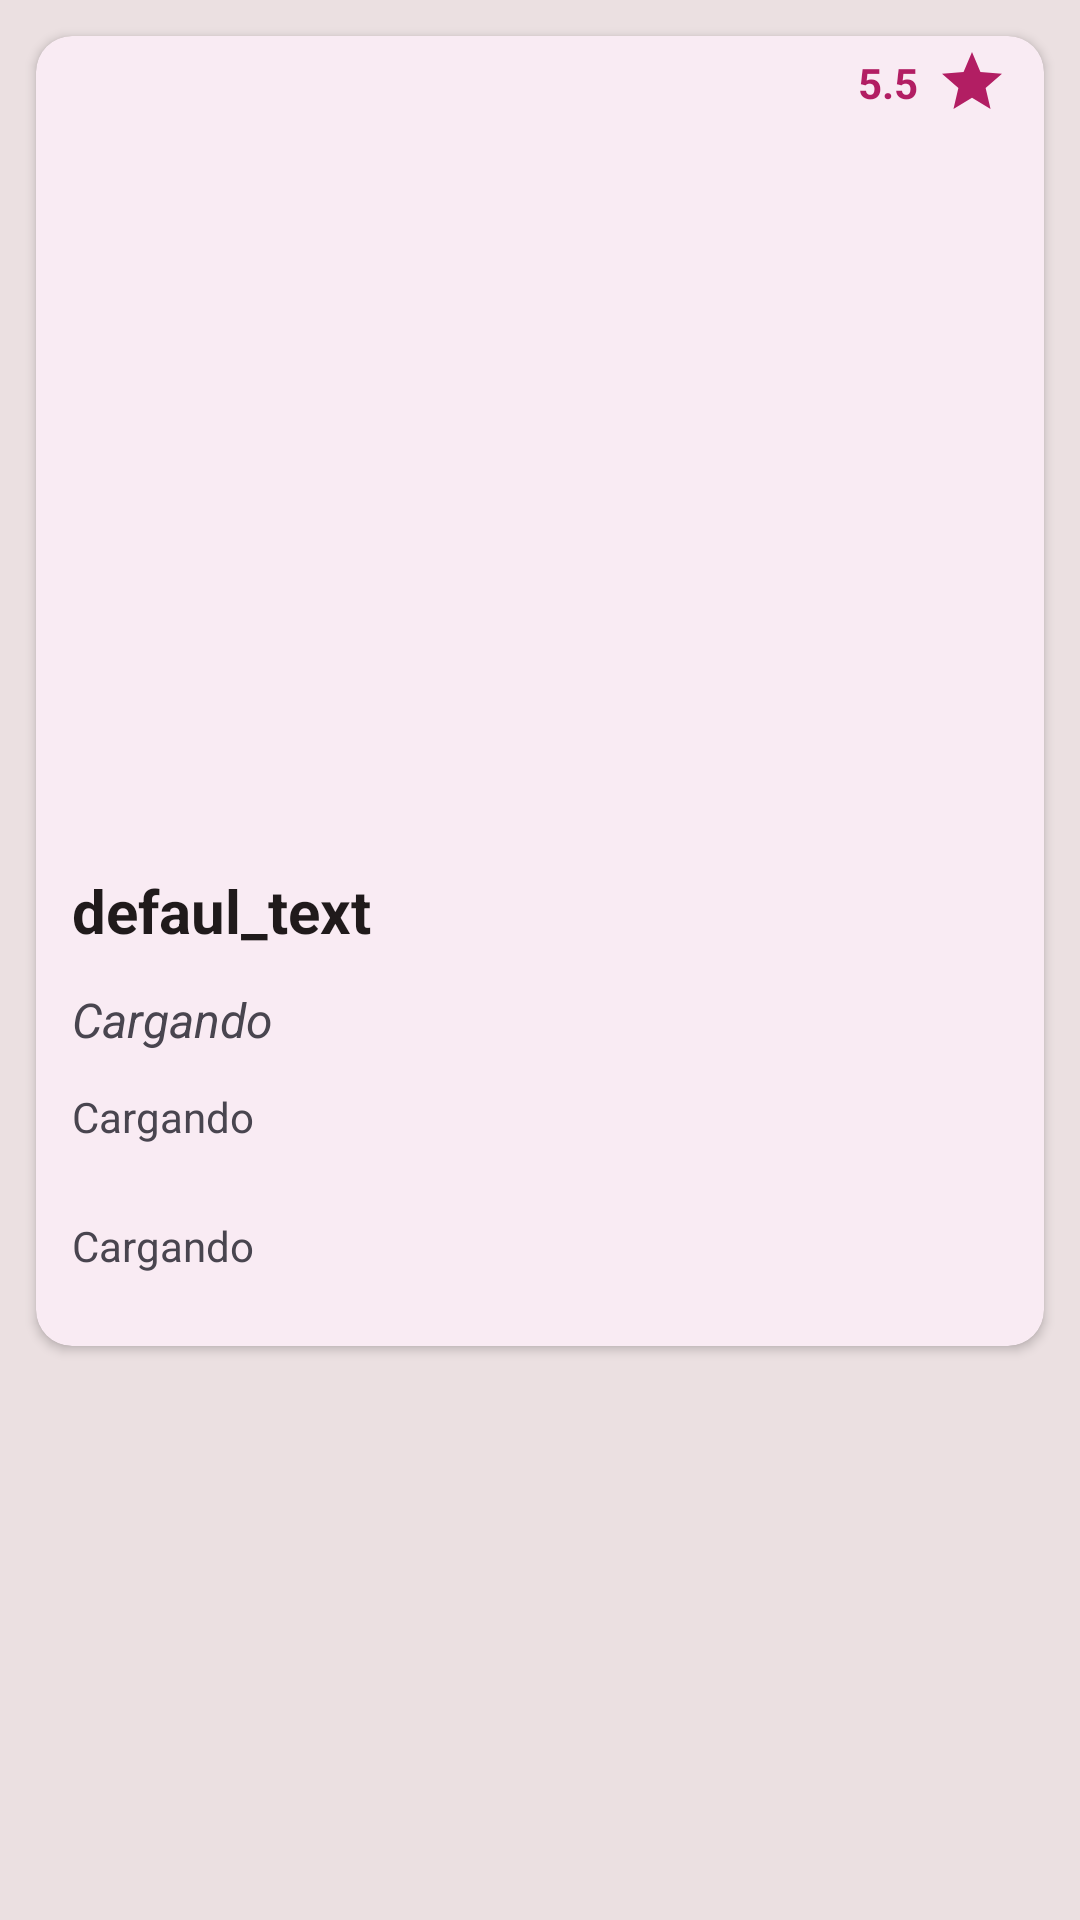

Icon bounding boxes for this 1080*1920 phone screenshot, format (x1,y1,x2,y2):
star: (942,52,1002,109)
